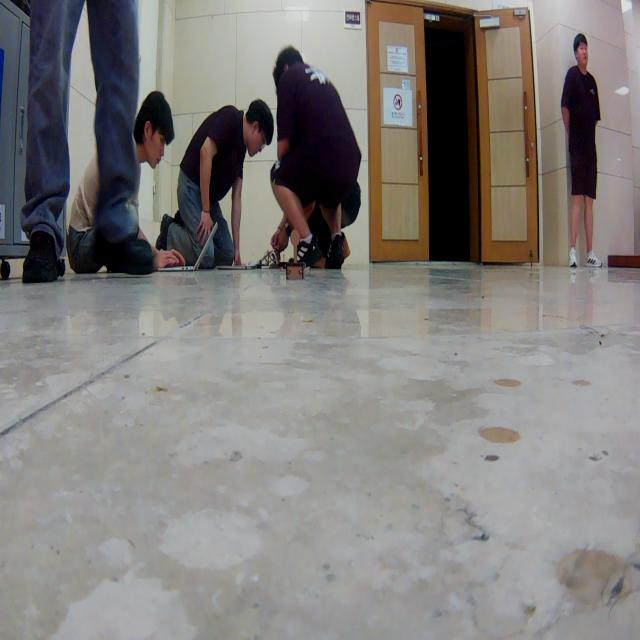target: (286, 228, 305, 280)
